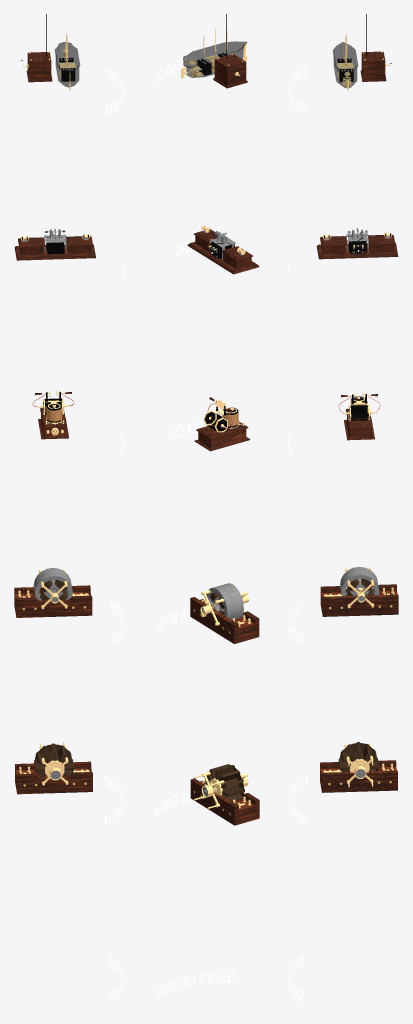
The picture shows the model from 3 angles, left to right: view 1: azimuth 90°, elevation 25°; view 2: azimuth 210°, elevation 25°; view 3: azimuth 270°, elevation 25°; orthographic projection. The views are drawn at different scales.
Parts seen in each view (by area): view 1: objects, level.013; view 2: objects, level.013; view 3: objects, level.013.
Part boxes in pixels (x1,y1,x2,y2): objects: (14,14,95,794); level.013: (104,66,124,1003); objects: (181,14,259,825); level.013: (154,54,238,1001); objects: (316,14,398,792); level.013: (288,65,308,1002).
Size of the model in its own units: 2.62 by 28.26 by 2.9.
Materials: 11 (4 with a texture image).
